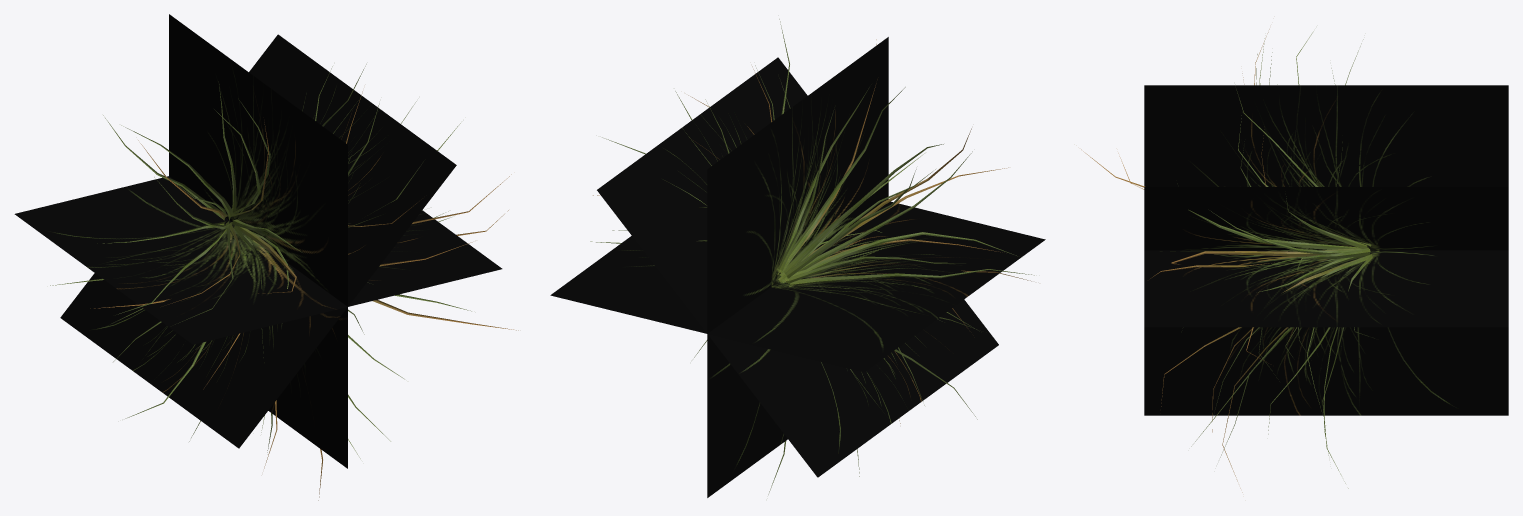
The picture shows the model from 3 angles, left to right: view 1: azimuth 30°, elevation 25°; view 2: azimuth 150°, elevation 25°; view 3: azimuth 270°, elevation 25°; orthographic projection.
Visible parts, largest first — view 1: GC23_v3; view 2: GC23_v3; view 3: GC23_v3.
Boxes of the visible parts, x1,y1,x2,y2 form: GC23_v3: [14, 14, 518, 500]; GC23_v3: [550, 19, 1045, 497]; GC23_v3: [1081, 29, 1508, 492].
Size of the model in its own units: 1.88 by 1.8 by 1.59.
3 materials, 3 textured.
